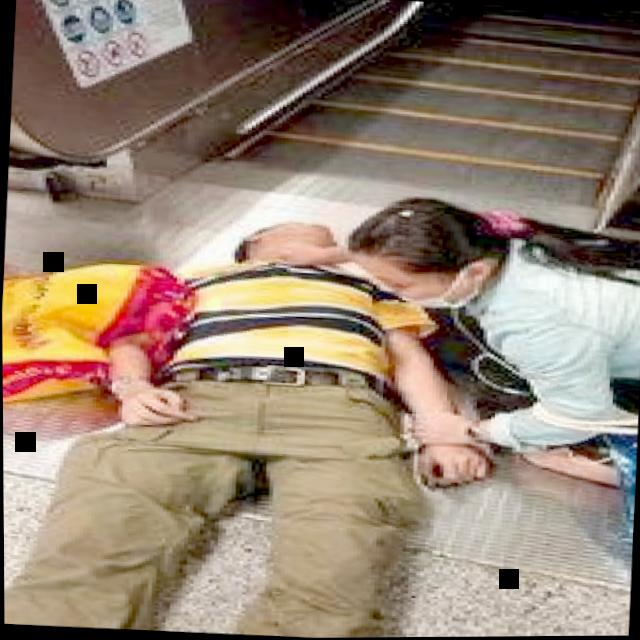Fall-Detected: (1, 181, 507, 640)
